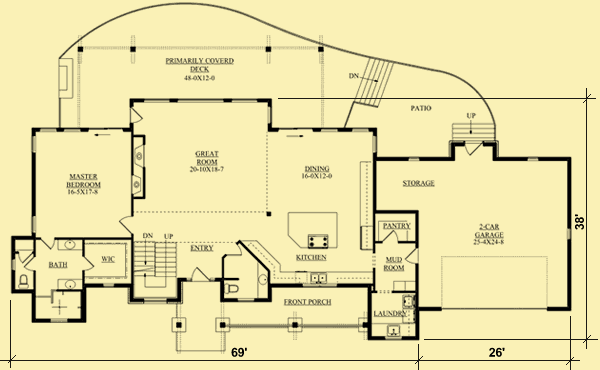bathroom which has small and large sink, shower space and walk in closet: (9, 237, 128, 325)
kitchen has dining counter with cooking range: (265, 205, 374, 284)
laundry room has washer and dryer: (365, 289, 421, 342)
small bathroom has a large and small room: (223, 243, 273, 303)
stairs to other floors: (129, 233, 184, 302)
this is a garage with two car space: (419, 150, 573, 309)
